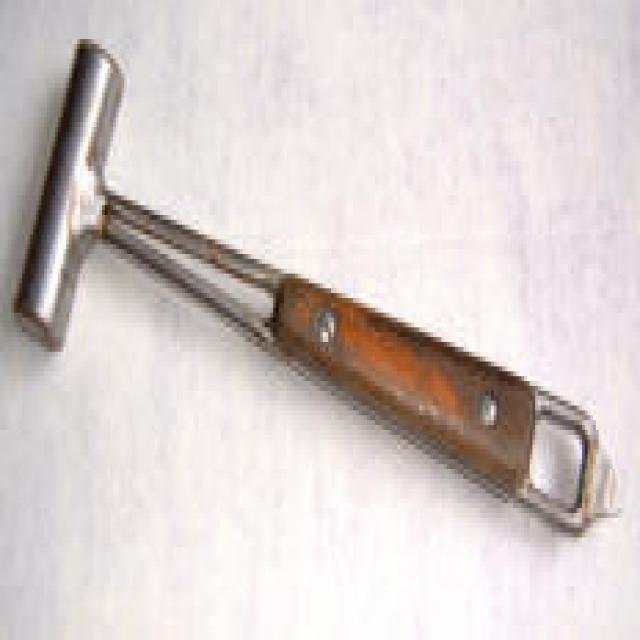hammer: (10, 32, 624, 551)
